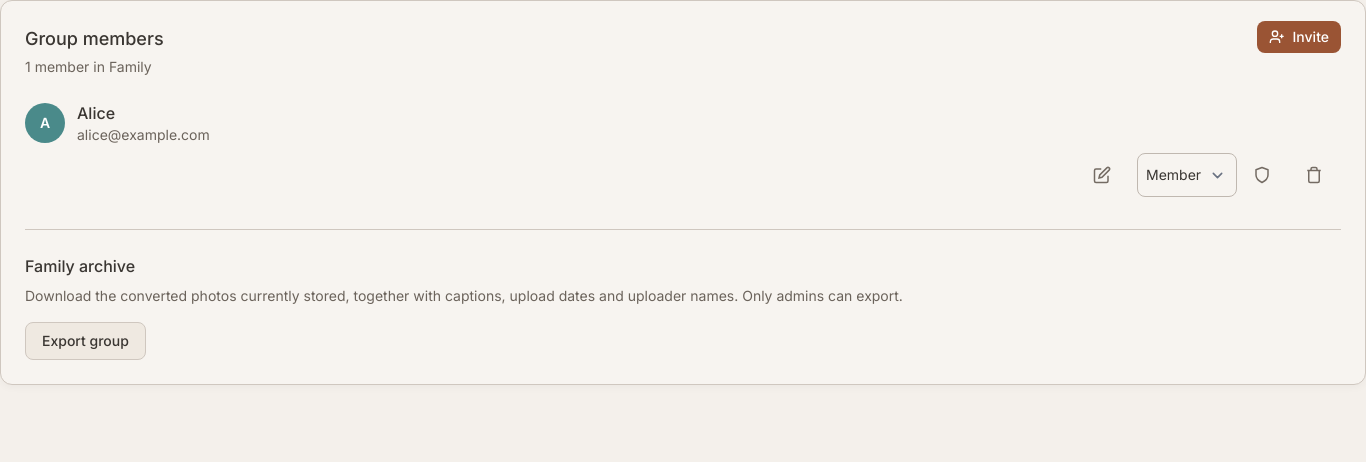
Test: MembersList image protection toggle › reports an error and reverts when the server rejects the toggle
What coordinates should you click on to do the following:
click the button named "Enable image protection for Alice"
I would click on:
 (1267, 175)
Its box is [1245, 153, 1289, 197].
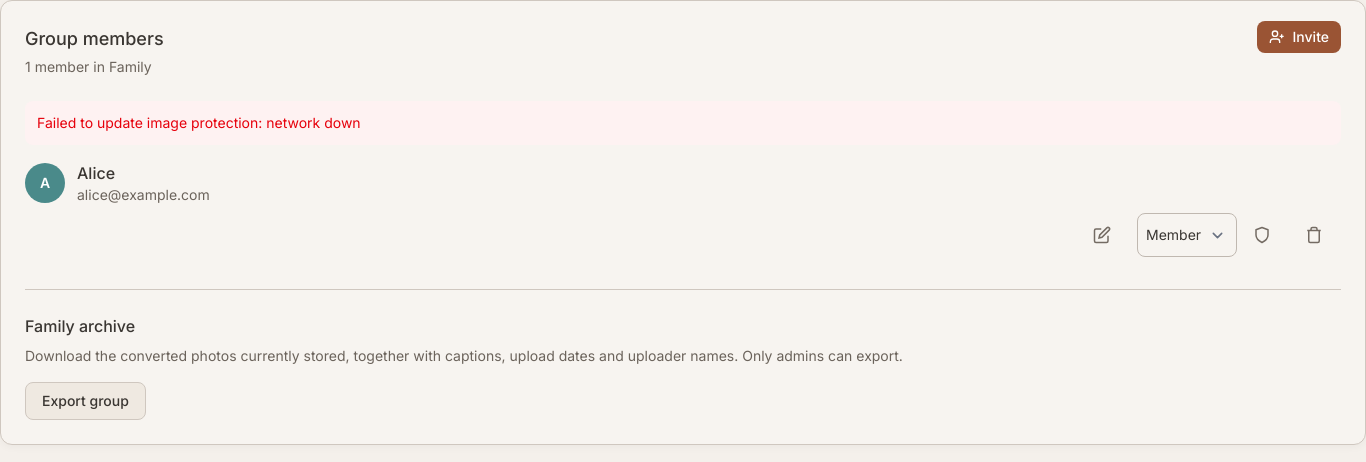
Expected: the button named "Enable image protection for Alice" is shown, [1245, 213, 1289, 257]
Expected: the message reads "Failed to update image protection: network down", [37, 114, 361, 131]
